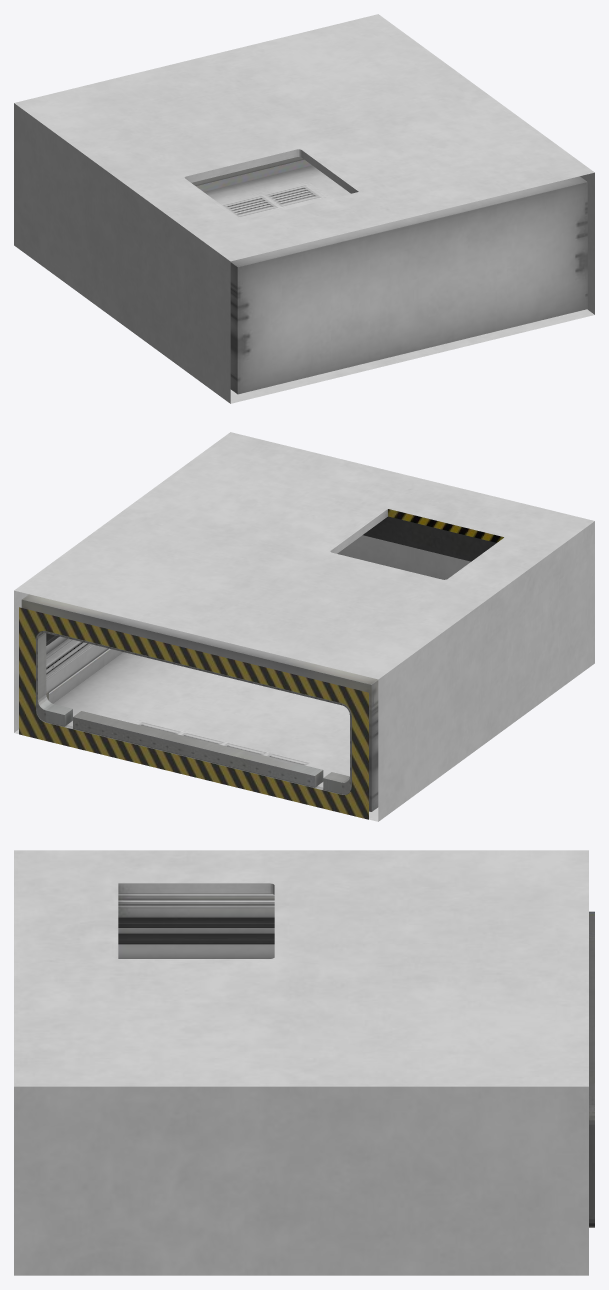
The model's file is ME1ARCage.fbx.
The picture shows the model from 3 angles, top to bottom: view 1: azimuth 30°, elevation 25°; view 2: azimuth 150°, elevation 25°; view 3: azimuth 270°, elevation 25°; orthographic projection. The views are drawn at different scales.
Visible parts, largest first — view 1: ShapeIndexedFaceSet; view 2: ShapeIndexedFaceSet; view 3: ShapeIndexedFaceSet.
Part boxes in pixels (x1=…): ShapeIndexedFaceSet: x1=14, y1=14, x2=594, y2=403; ShapeIndexedFaceSet: x1=14, y1=432, x2=594, y2=821; ShapeIndexedFaceSet: x1=14, y1=850, x2=594, y2=1275.
Bounding box in the file's own units: 7.5 × 2.8 × 7.8.
